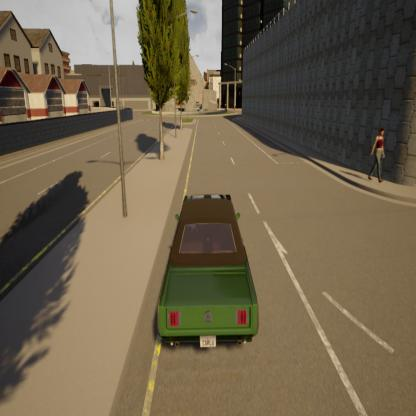Cars: (148, 165, 272, 360)
Pedestrian: (363, 113, 393, 192)
